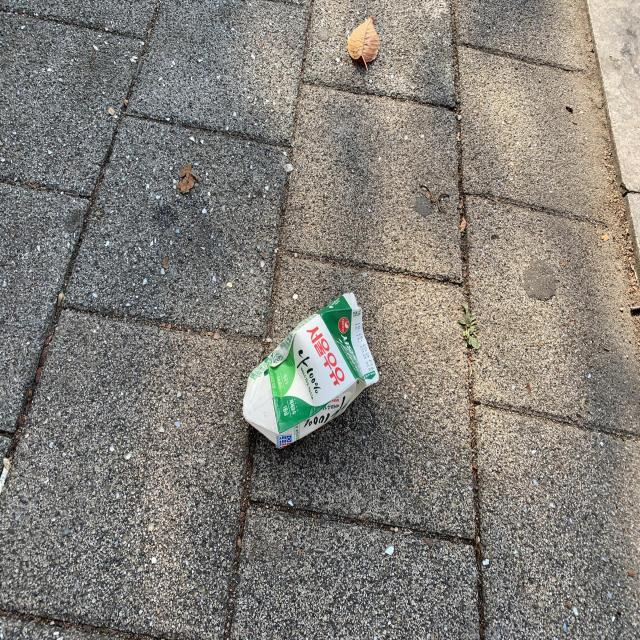paperpack: (243, 292, 379, 448)
